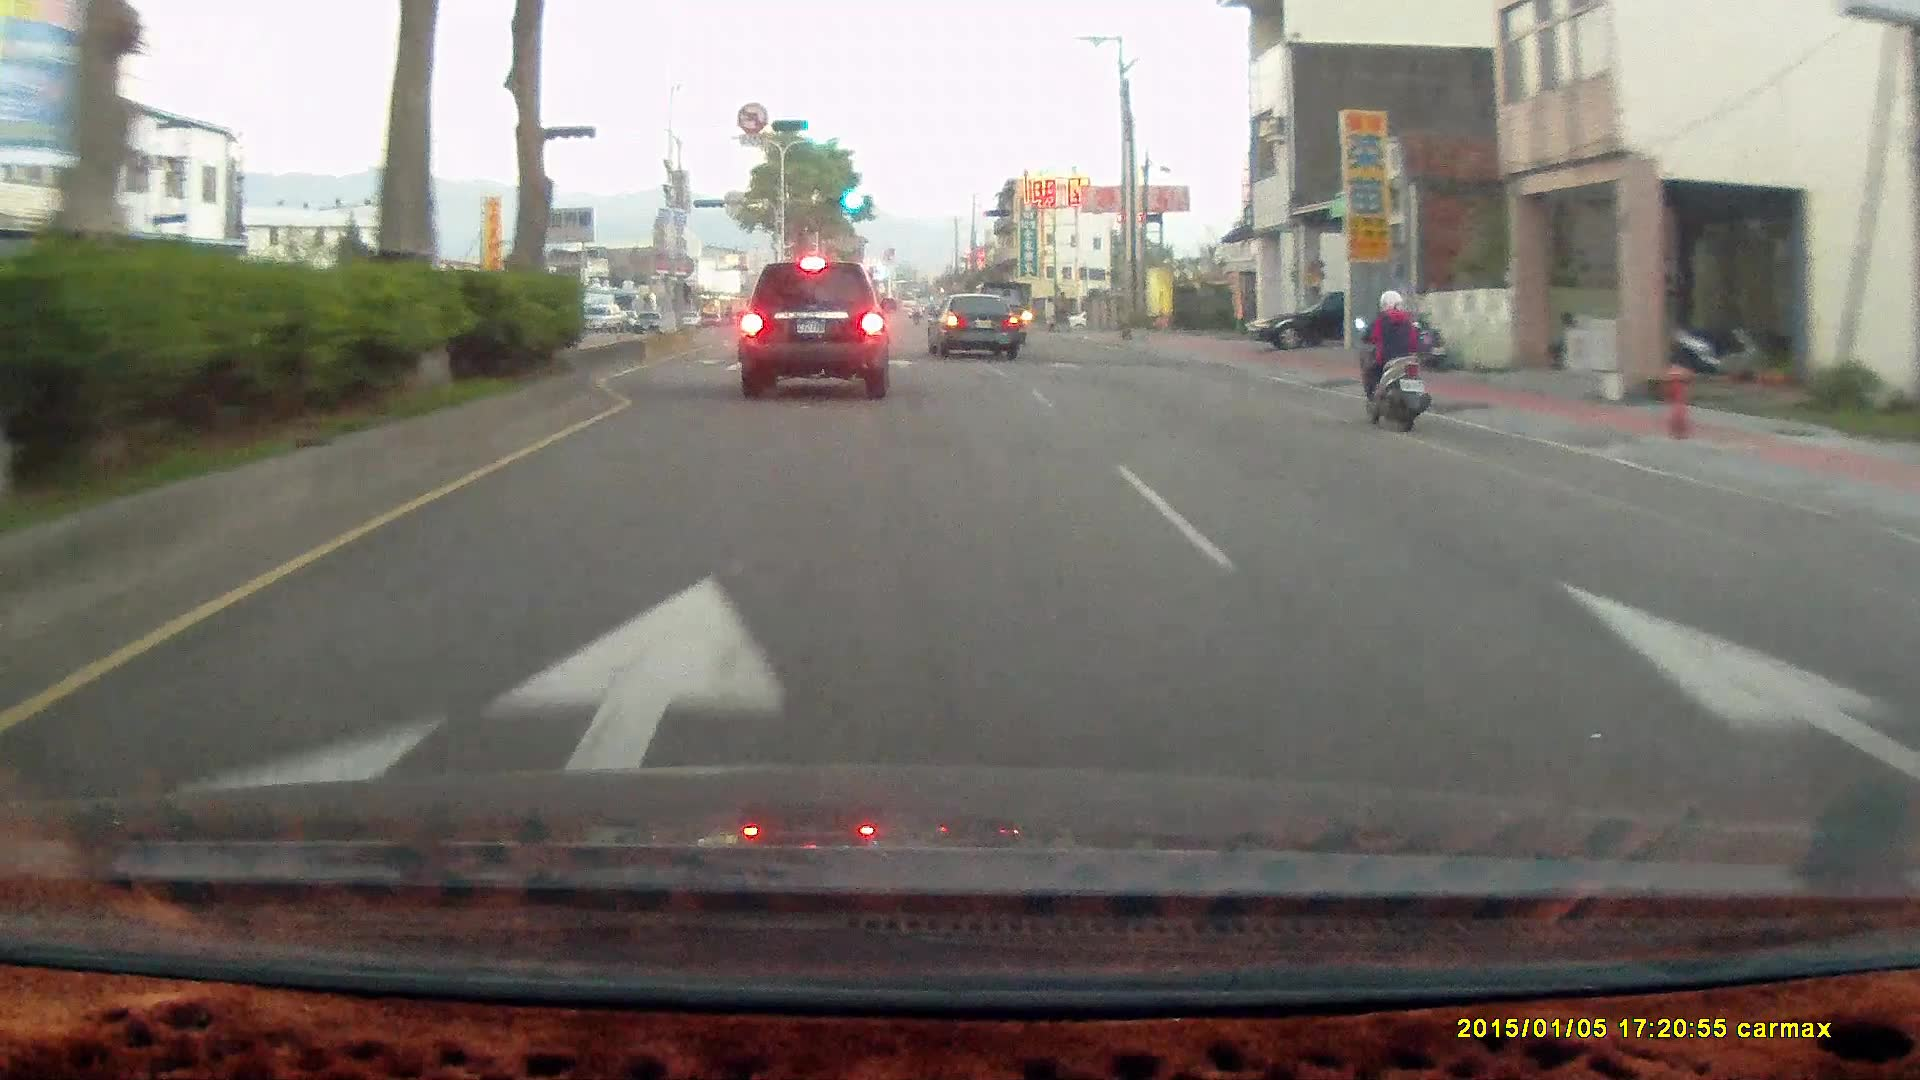rider: (1347, 276, 1445, 441), (1352, 287, 1431, 433)
vehicle: (730, 261, 889, 407), (740, 262, 895, 397), (1248, 289, 1428, 347), (1249, 290, 1353, 350), (929, 293, 1022, 359), (926, 292, 1017, 358), (582, 302, 622, 332)
